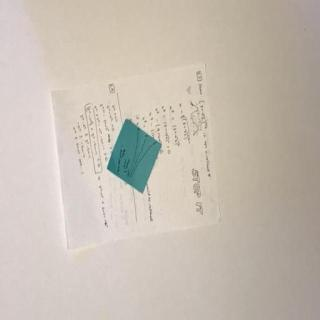Anorganik: (49, 62, 221, 238)
